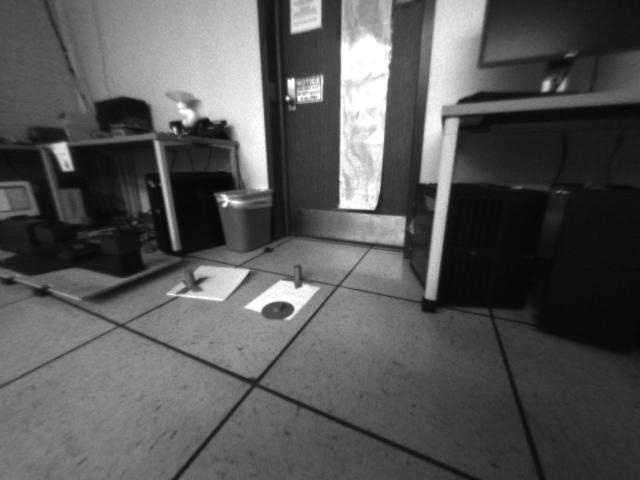X: (176, 268, 209, 295), (280, 265, 314, 288)
